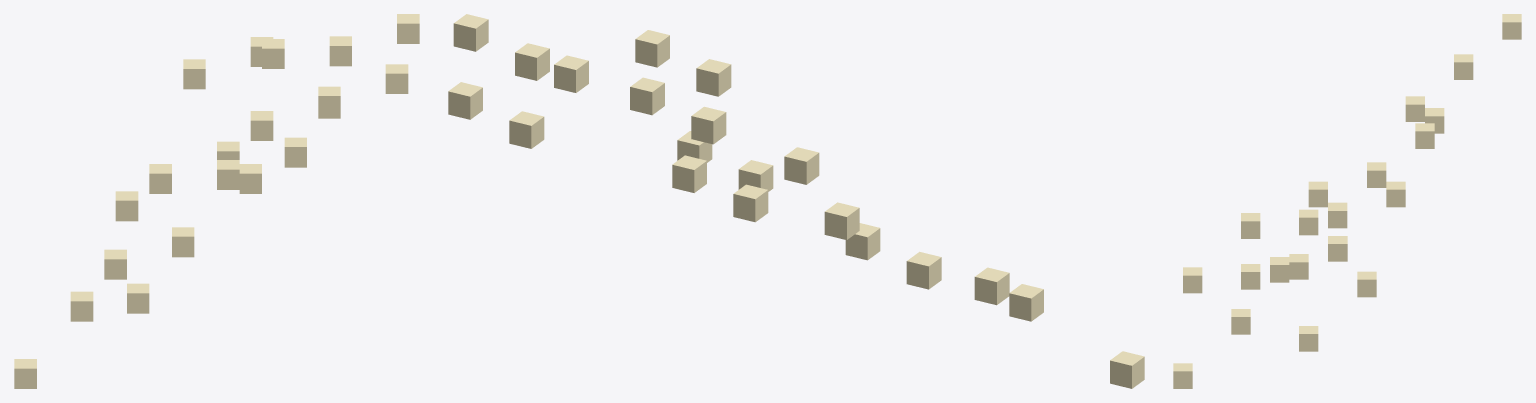
Rendered from star_square_spacedust_white.glb.
3 views of the same model, side by side, from view 1: azimuth 90°, elevation 25°; view 2: azimuth 150°, elevation 25°; view 3: azimuth 270°, elevation 25° (orthographic). The views are drawn at different scales.
Visible parts, largest first — view 1: block (×19); view 2: block (×20); view 3: block (×20).
Part boxes in pixels (bbox=[...]): block (×19): bbox=[14, 14, 419, 388]; block (×20): bbox=[448, 14, 1144, 388]; block (×20): bbox=[1173, 14, 1521, 388].
Bounding box in the file's own units: 8.1 × 0.7 × 3.6.
